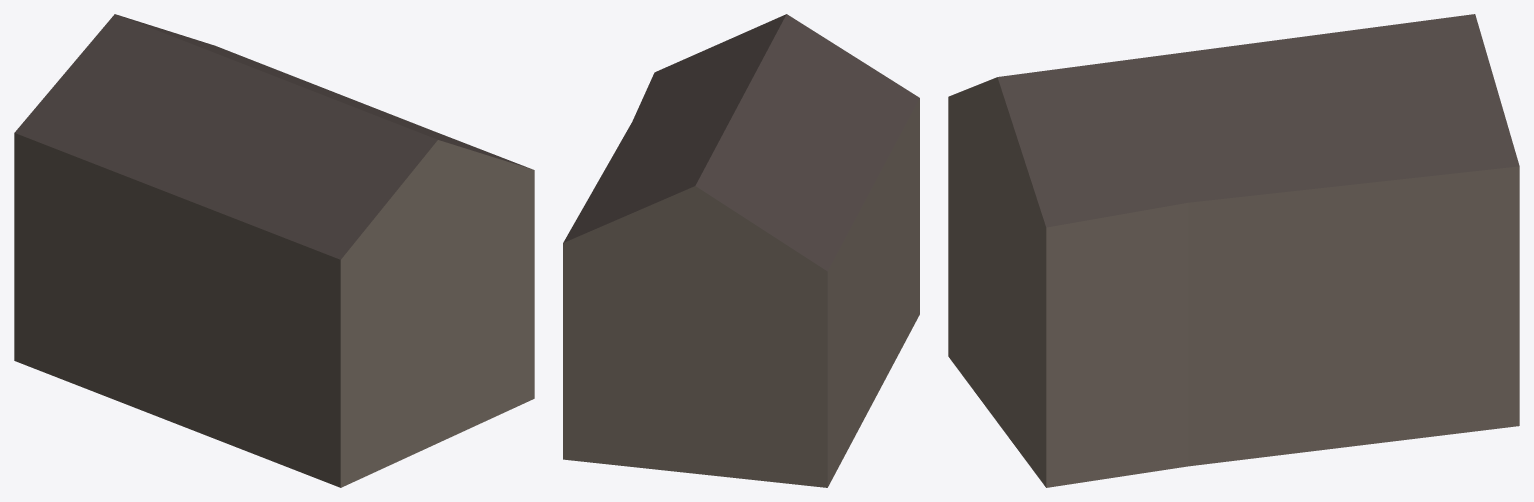
3 views of the same model, side by side, from view 1: azimuth 30°, elevation 25°; view 2: azimuth 150°, elevation 25°; view 3: azimuth 270°, elevation 25° (orthographic). The views are drawn at different scales.
Parts seen in each view (by area): view 1: HP-w1196401639; view 2: HP-w1196401639; view 3: HP-w1196401639.
Part boxes in pixels (left/top/right/bottom): HP-w1196401639: left=14, top=14, right=534, bottom=487; HP-w1196401639: left=563, top=14, right=919, bottom=487; HP-w1196401639: left=948, top=14, right=1519, bottom=487.
Size of the model in its own units: 9.67 by 7.98 by 11.96.
